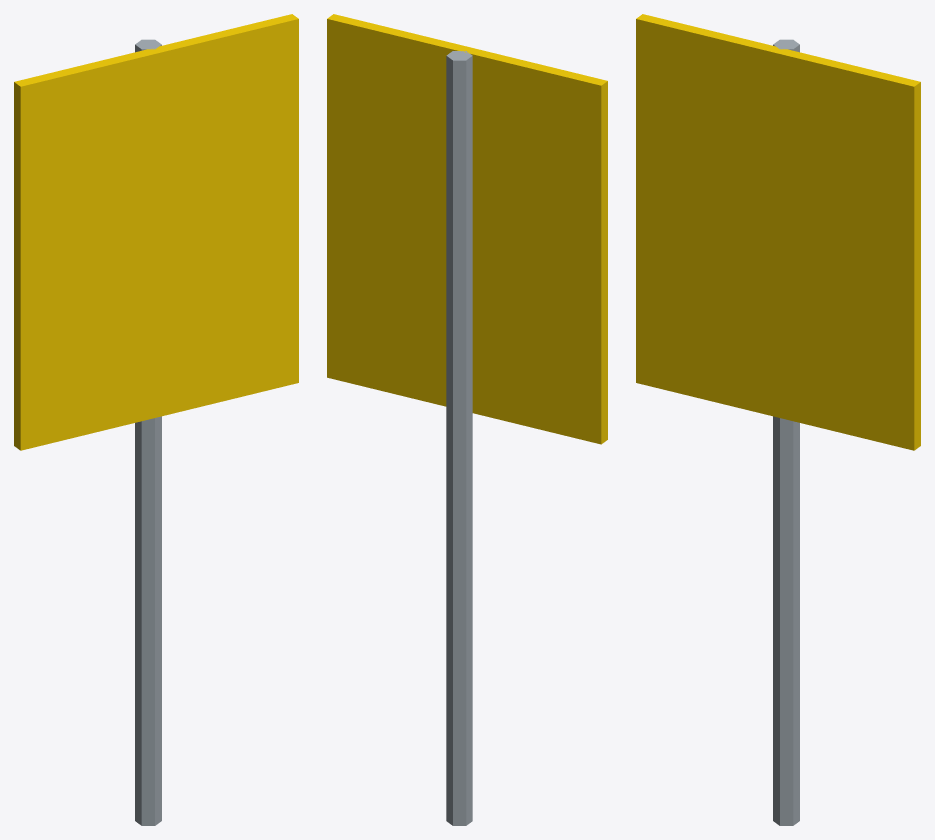
File: exits_advisory.glb
The picture shows the model from 3 angles, left to right: view 1: azimuth 30°, elevation 25°; view 2: azimuth 150°, elevation 25°; view 3: azimuth 330°, elevation 25°; orthographic projection.
Parts seen in each view (by area): view 1: ExitsAdvisory_body; view 2: ExitsAdvisory_body; view 3: ExitsAdvisory_body.
Boxes of the visible parts, bbox=[...] form: ExitsAdvisory_body: bbox=[14, 14, 298, 825]; ExitsAdvisory_body: bbox=[327, 14, 607, 825]; ExitsAdvisory_body: bbox=[636, 14, 920, 825].
Bounding box in the file's own units: 1.2 × 3.2 × 0.135.
